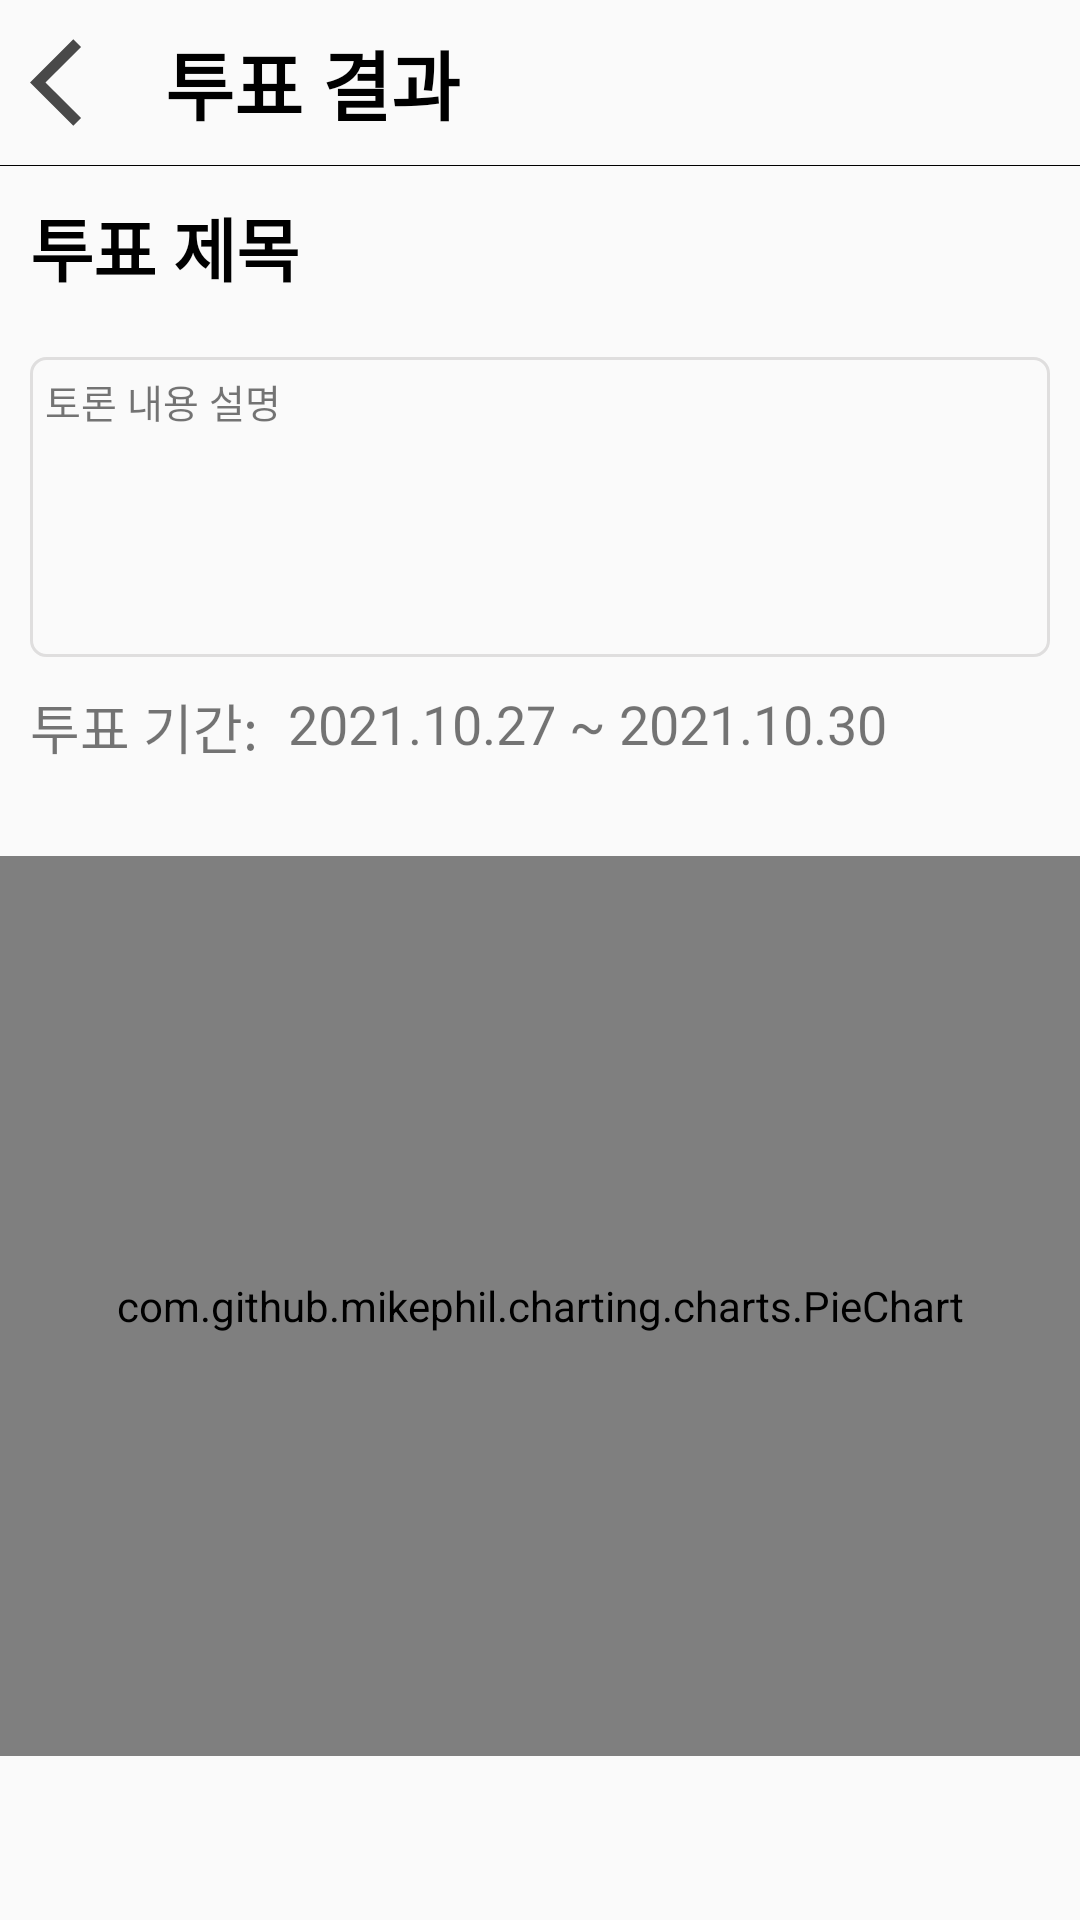

Point at icon controls on the screen. Image size 1080px x 1920px, points as (x,y).
arrow back: (55,82)
